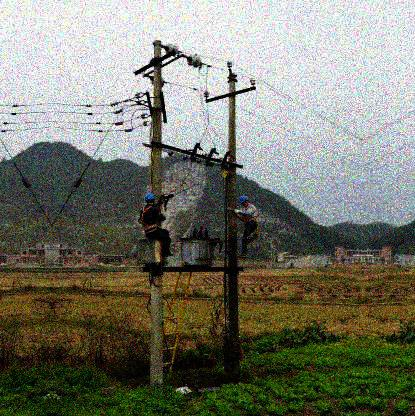helmet: (143, 192, 156, 205), (239, 195, 250, 208)
